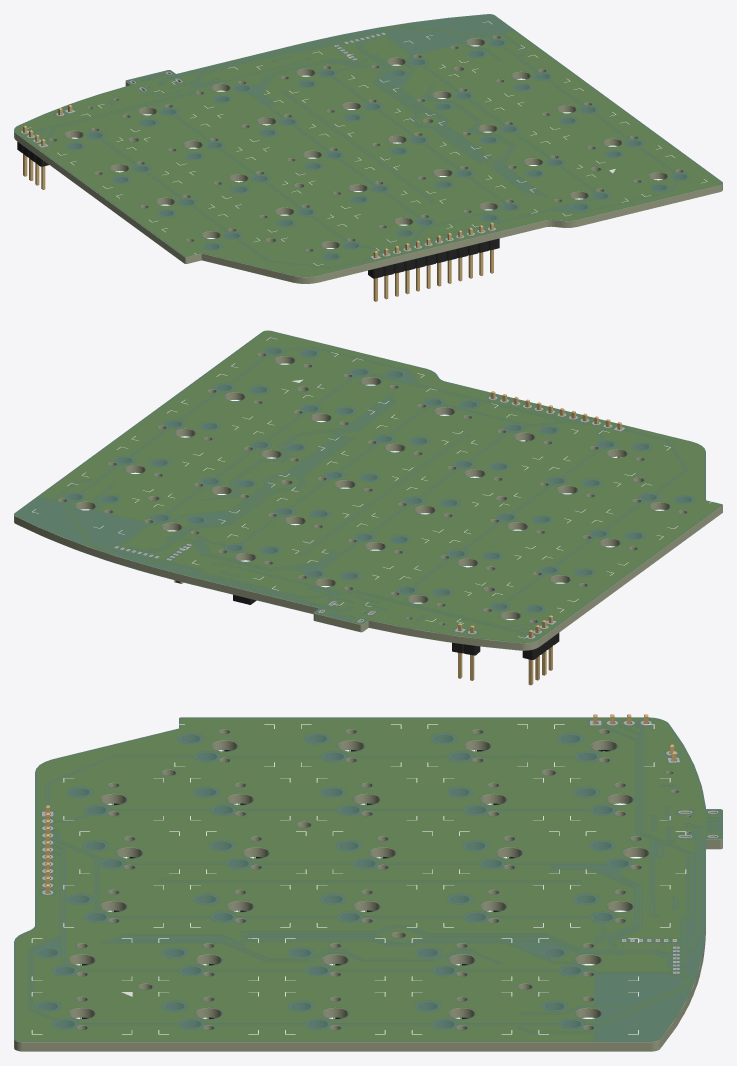
Rendered from board.glb.
3 renders of one model, top to bottom at view 1: azimuth 30°, elevation 25°; view 2: azimuth 150°, elevation 25°; view 3: azimuth 270°, elevation 25°, orthographic. The views are drawn at different scales.
Parts seen in each view (by area): view 1: board_soldermask (×2), board_copper, board_PCB, board_pad, PinHeader_1x12_P254mm_Vertical, board_silkscreen, PinHeader_1x04_P254mm_Vertical; view 2: board_soldermask (×2), board_copper, board_PCB, board_pad, board_silkscreen, PinHeader_1x04_P254mm_Vertical, PinHeader_1x02_P254mm_Vertical; view 3: board_soldermask (×2), board_copper, board_PCB, board_pad, board_silkscreen.
Part boxes in pixels (x1,y1,x2,y2): board_soldermask (×2): [14, 14, 722, 283]; board_copper: [16, 26, 720, 275]; board_PCB: [14, 15, 722, 283]; board_pad: [21, 32, 688, 259]; PinHeader_1x12_P254mm_Vertical: [368, 222, 499, 301]; board_silkscreen: [27, 21, 707, 265]; PinHeader_1x04_P254mm_Vertical: [17, 125, 48, 189]; board_soldermask (×2): [14, 330, 722, 650]; board_copper: [40, 332, 720, 641]; board_PCB: [14, 332, 722, 650]; board_pad: [66, 348, 693, 638]; board_silkscreen: [32, 337, 711, 638]; PinHeader_1x04_P254mm_Vertical: [522, 615, 559, 685]; PinHeader_1x02_P254mm_Vertical: [452, 623, 480, 680]; board_soldermask (×2): [14, 717, 722, 1051]; board_copper: [16, 719, 720, 1040]; board_PCB: [14, 718, 722, 1051]; board_pad: [37, 720, 718, 1028]; board_silkscreen: [31, 724, 686, 1034].
Size of the model in its own units: 0.1156 by 0.0115 by 0.1067.
